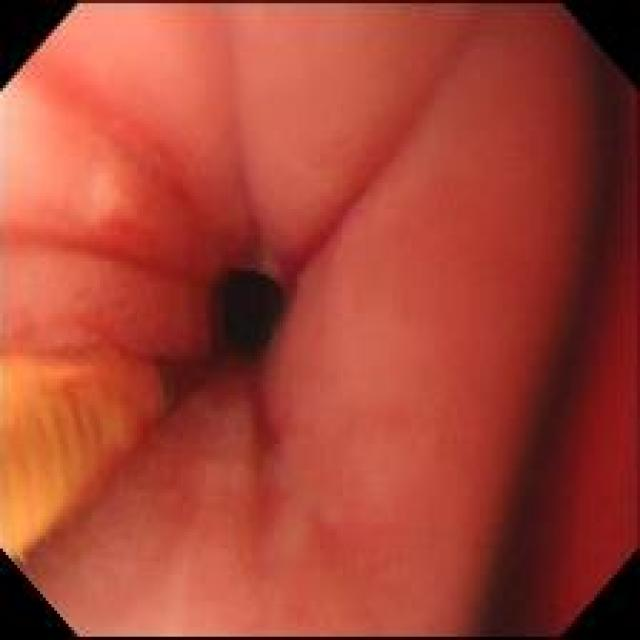blur: (487, 14, 636, 635)
contrast: (210, 257, 284, 362)
instrument: (2, 351, 184, 562)
